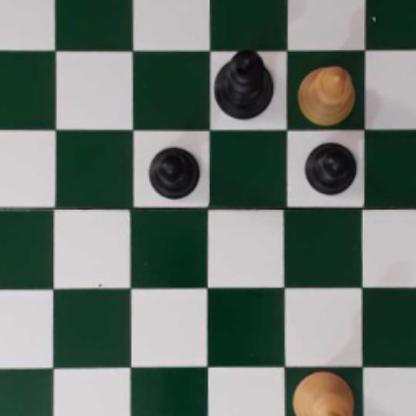black-king: (210, 47, 276, 118)
black-pawn: (144, 144, 201, 200), (304, 138, 356, 197)
white-bishop: (298, 65, 356, 125)
white-king: (291, 366, 355, 416)
